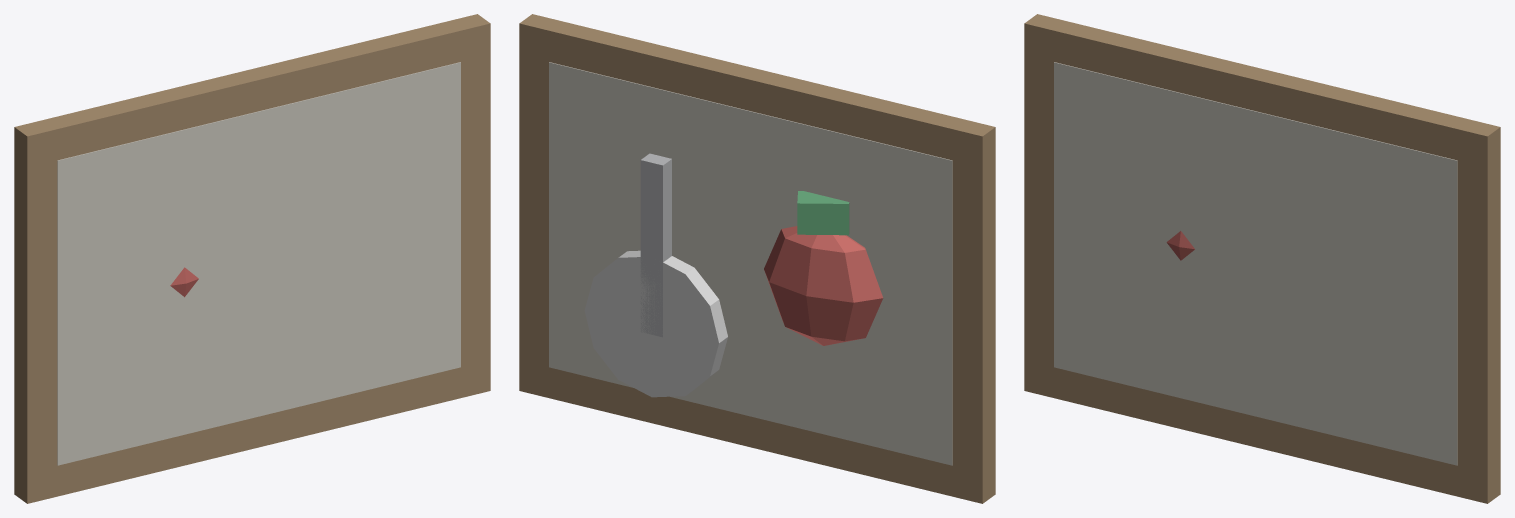
The model's file is parede_quadro_cozinha.glb.
3 renders of one model, left to right at view 1: azimuth 30°, elevation 25°; view 2: azimuth 150°, elevation 25°; view 3: azimuth 330°, elevation 25°, orthographic.
Visible parts, largest first — view 1: PAREDE_QUADRO_COZINHA_v01; view 2: PAREDE_QUADRO_COZINHA_v01; view 3: PAREDE_QUADRO_COZINHA_v01.
Part boxes in pixels (x1=…): PAREDE_QUADRO_COZINHA_v01: x1=14, y1=14, x2=490, y2=503; PAREDE_QUADRO_COZINHA_v01: x1=519, y1=14, x2=995, y2=503; PAREDE_QUADRO_COZINHA_v01: x1=1024, y1=14, x2=1500, y2=503.
Bounding box in the file's own units: 0.62 × 0.47 × 0.08.
